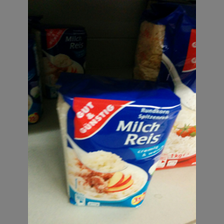rice: (56, 72, 182, 208), (134, 8, 195, 171)
